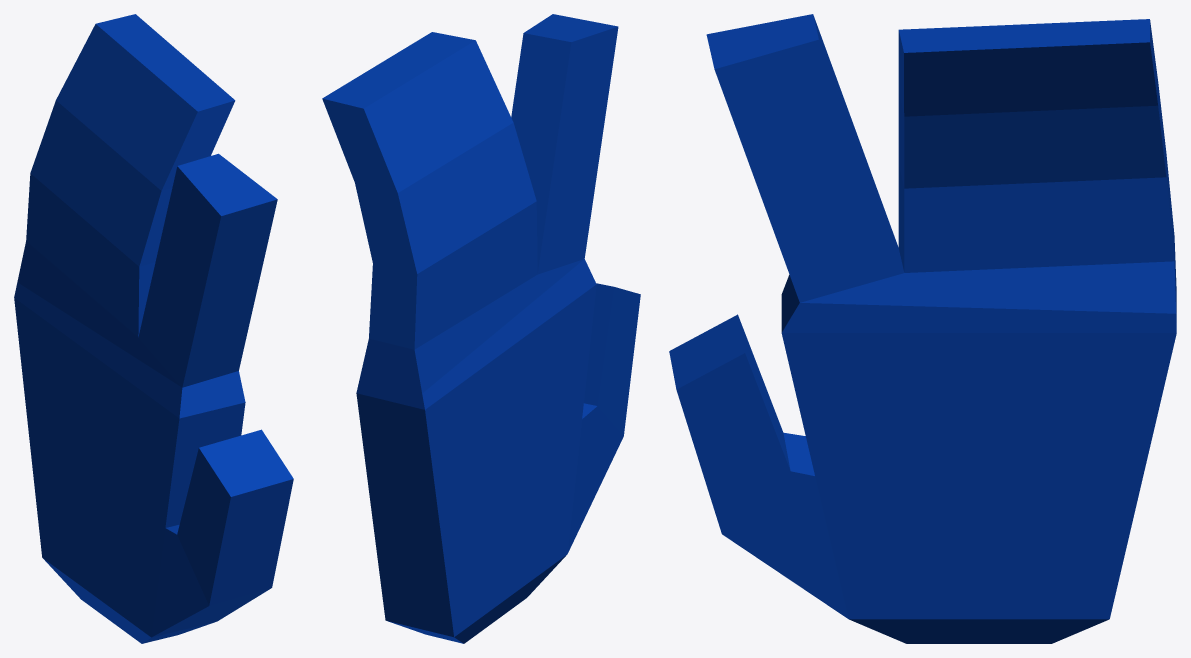
The model's file is RightHand.fbx.
3 renders of one model, left to right at view 1: azimuth 30°, elevation 25°; view 2: azimuth 150°, elevation 25°; view 3: azimuth 270°, elevation 25°, orthographic. The views are drawn at different scales.
Parts seen in each view (by area): view 1: Cube; view 2: Cube; view 3: Cube.
Boxes of the visible parts, x1,y1,x2,y2 form: Cube: [14, 14, 293, 643]; Cube: [322, 14, 640, 643]; Cube: [669, 14, 1176, 643].
Size of the model in its own units: 78.14 by 355 by 257.
